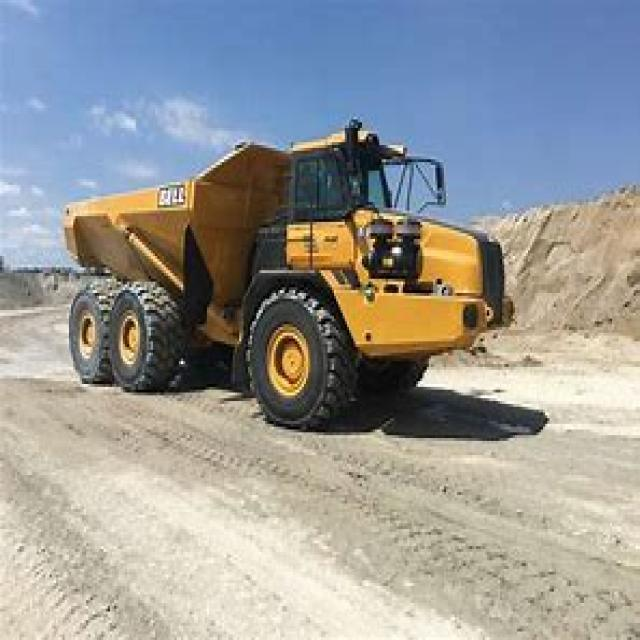dump_truck: (52, 117, 515, 438)
